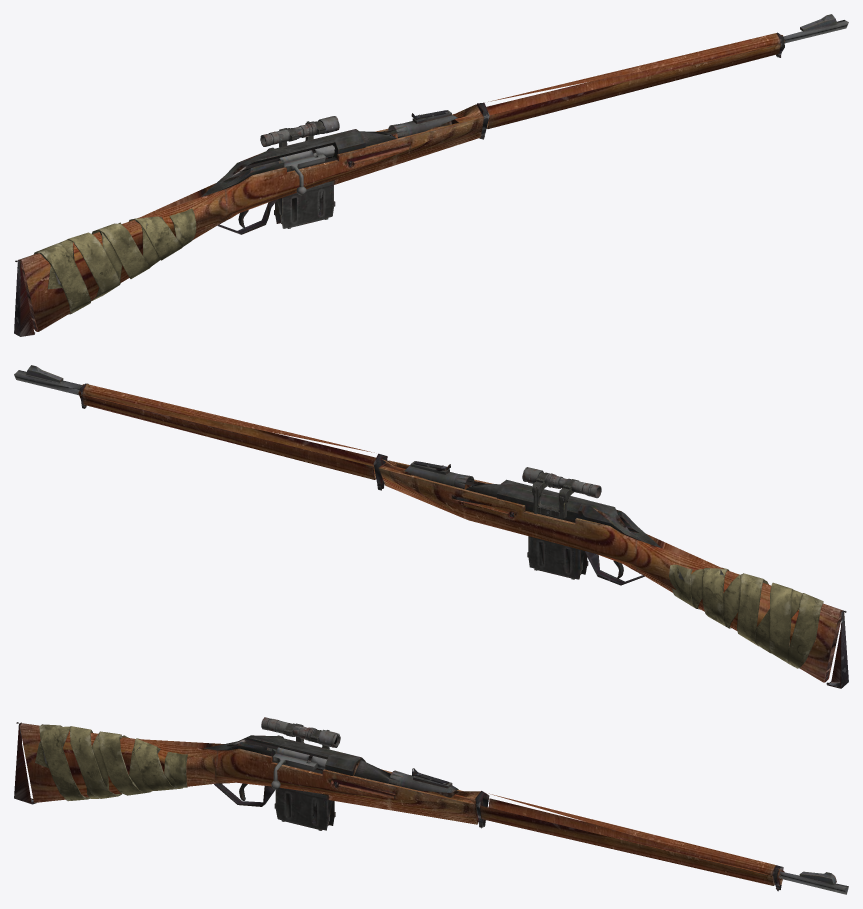
File: rifle.glb
The picture shows the model from 3 angles, top to bottom: view 1: azimuth 30°, elevation 25°; view 2: azimuth 150°, elevation 25°; view 3: azimuth 330°, elevation 25°; orthographic projection.
Parts seen in each view (by area): view 1: bolt_action_rifle_7_62, bolt_action_rifle_7_62_scope; view 2: bolt_action_rifle_7_62, bolt_action_rifle_7_62_scope; view 3: bolt_action_rifle_7_62, bolt_action_rifle_7_62_scope.
Boxes of the visible parts, box(x1,y1,x2,y2) form: bolt_action_rifle_7_62: box(14, 14, 848, 336); bolt_action_rifle_7_62_scope: box(34, 116, 339, 314); bolt_action_rifle_7_62: box(14, 365, 848, 688); bolt_action_rifle_7_62_scope: box(522, 467, 823, 668); bolt_action_rifle_7_62: box(14, 722, 848, 894); bolt_action_rifle_7_62_scope: box(35, 717, 340, 801).
Bounding box in the file's own units: 1.22 × 0.2026 × 0.0662.
Materials: 3 (3 with a texture image).
